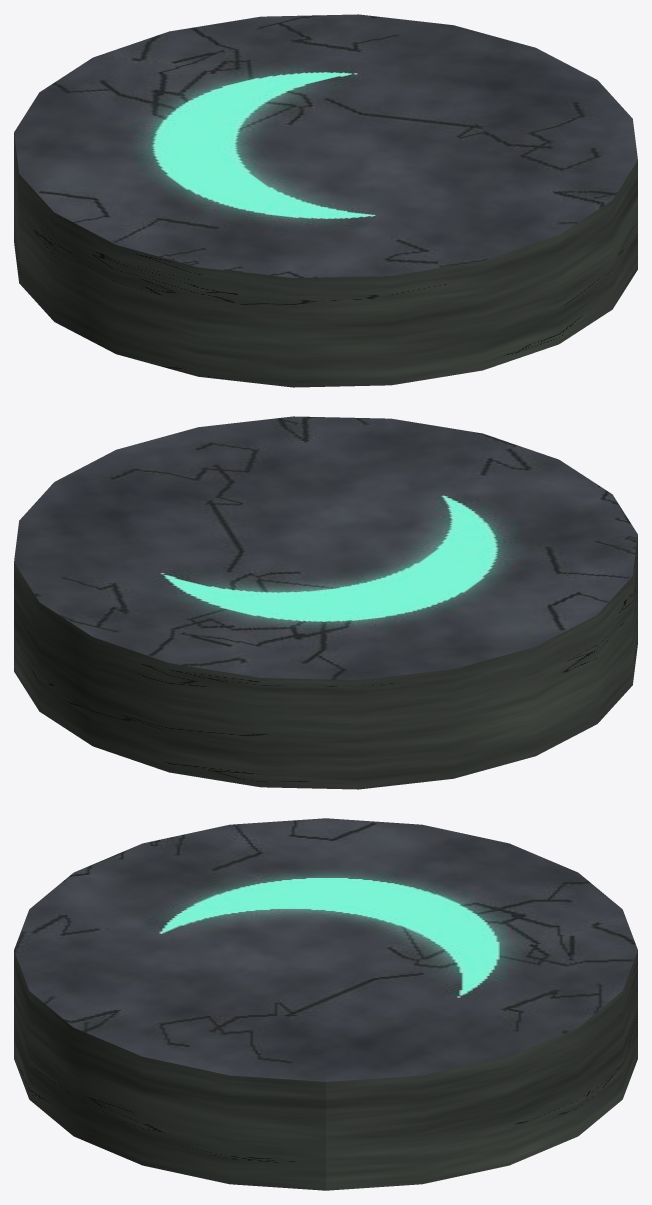
File: rune_1.glb
3 renders of one model, top to bottom at view 1: azimuth 30°, elevation 25°; view 2: azimuth 150°, elevation 25°; view 3: azimuth 270°, elevation 25°, orthographic.
Parts seen in each view (by area): view 1: rune; view 2: rune; view 3: rune.
Part boxes in pixels (<box>): rune: <box>14,14,637,387</box>; rune: <box>14,416,637,789</box>; rune: <box>14,818,637,1190</box>.
Bounding box in the file's own units: 0.26 × 0.05 × 0.26.
Materials: 2 (2 with a texture image).
